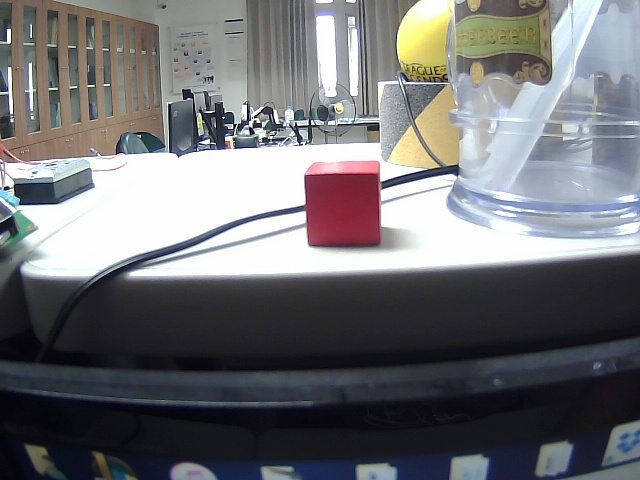redbox: (294, 154, 404, 258)
